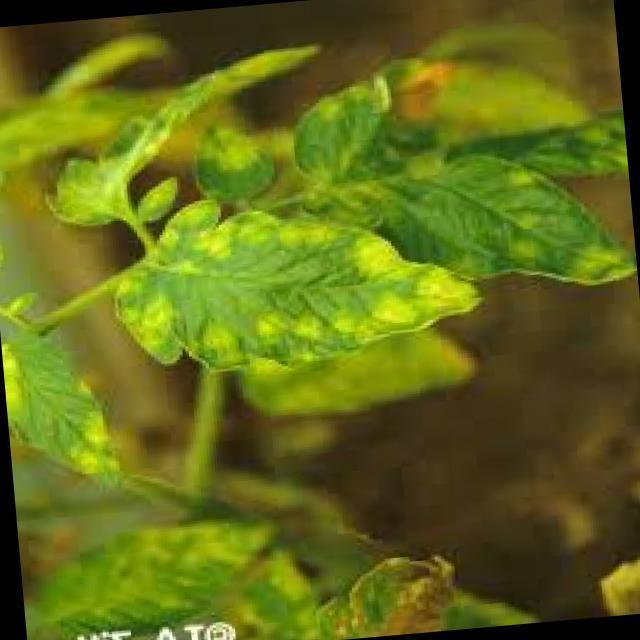Mosaic Virus: (97, 190, 492, 388), (429, 158, 638, 297), (1, 333, 126, 487), (288, 70, 406, 194), (177, 109, 282, 209)
